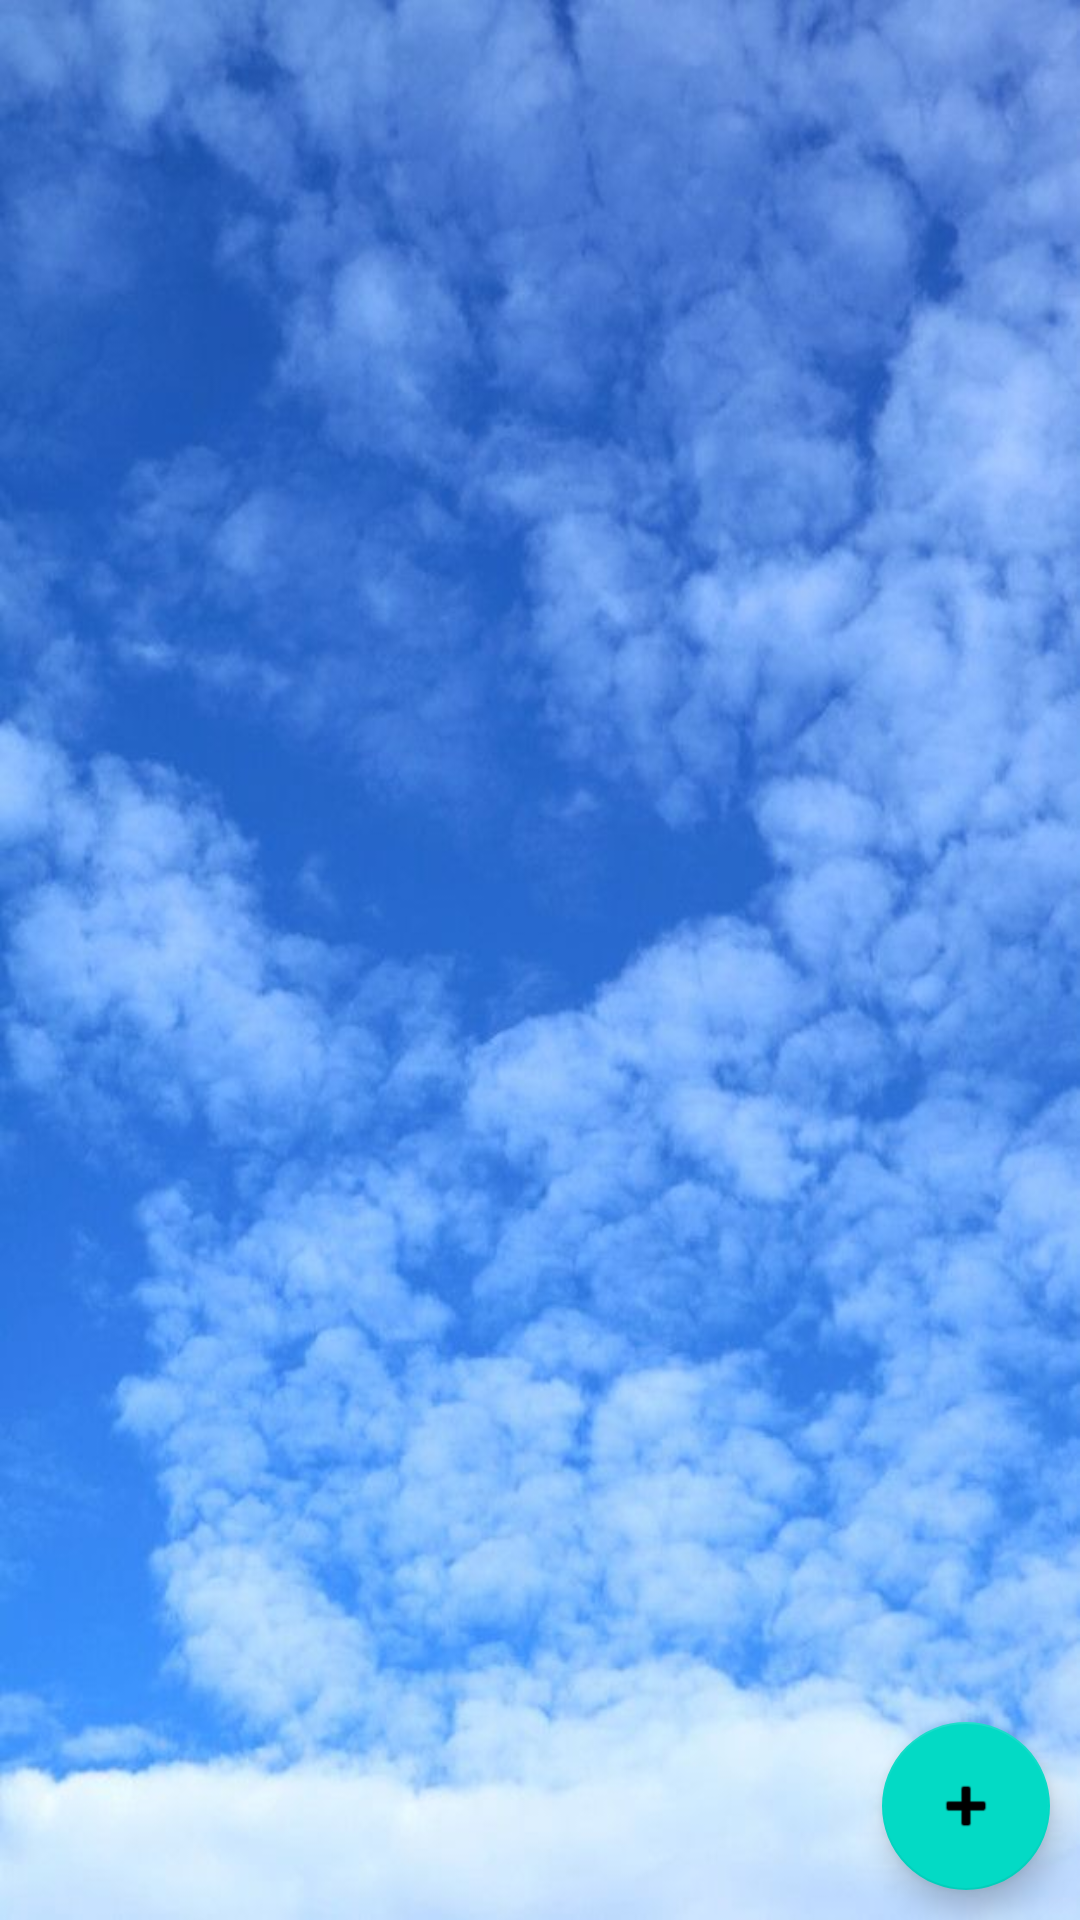

Screen size 1080 × 1920. Icon name, then its center in pixels as point (x, y):
add: point (966, 1806)
